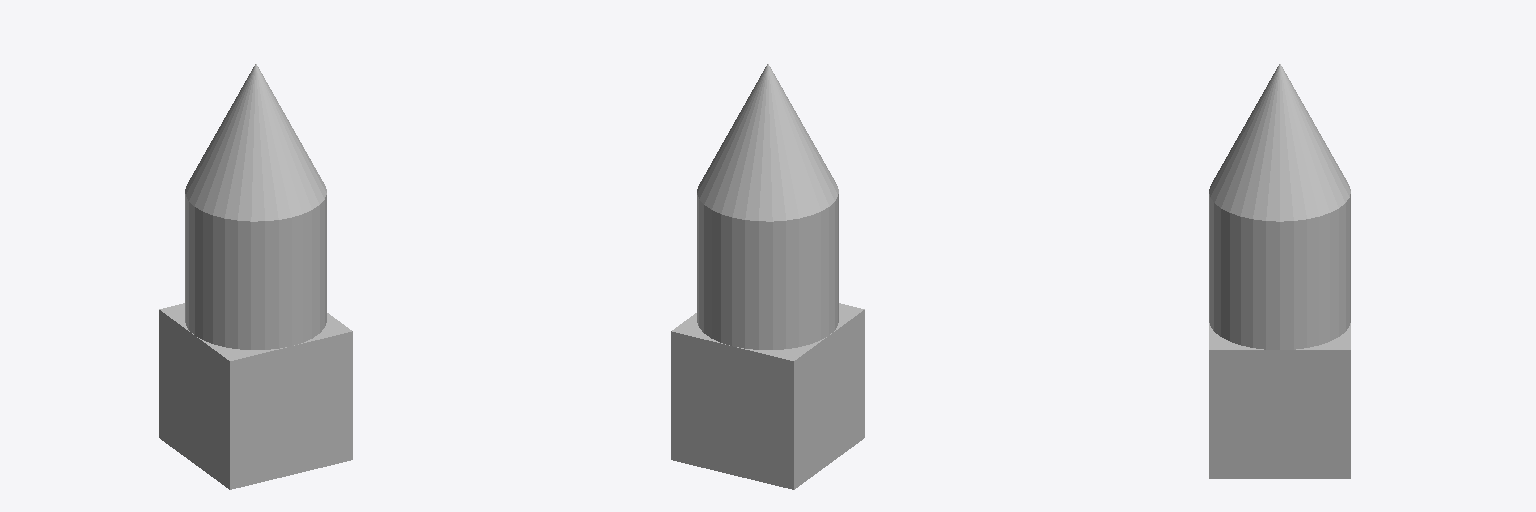
The model's file is rocket.obj.
3 views of the same model, side by side, from view 1: azimuth 30°, elevation 25°; view 2: azimuth 150°, elevation 25°; view 3: azimuth 270°, elevation 25° (orthographic).
Parts seen in each view (by area): view 1: Cube, Cylinder, Cone; view 2: Cube, Cylinder, Cone; view 3: Cube, Cylinder, Cone.
Boxes of the visible parts, x1,y1,x2,y2 form: Cube: [159, 303, 352, 489]; Cylinder: [185, 194, 326, 349]; Cone: [185, 64, 326, 221]; Cube: [671, 303, 864, 489]; Cylinder: [697, 194, 838, 349]; Cone: [697, 64, 838, 221]; Cube: [1209, 323, 1350, 478]; Cylinder: [1209, 194, 1350, 349]; Cone: [1209, 64, 1350, 221].
Size of the model in its own units: 2 by 6 by 2.